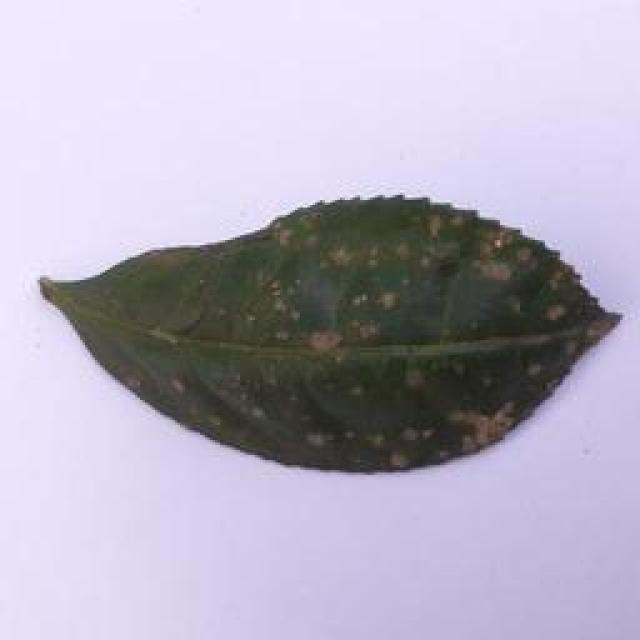Algal Leaf Spot: (41, 189, 627, 478)
